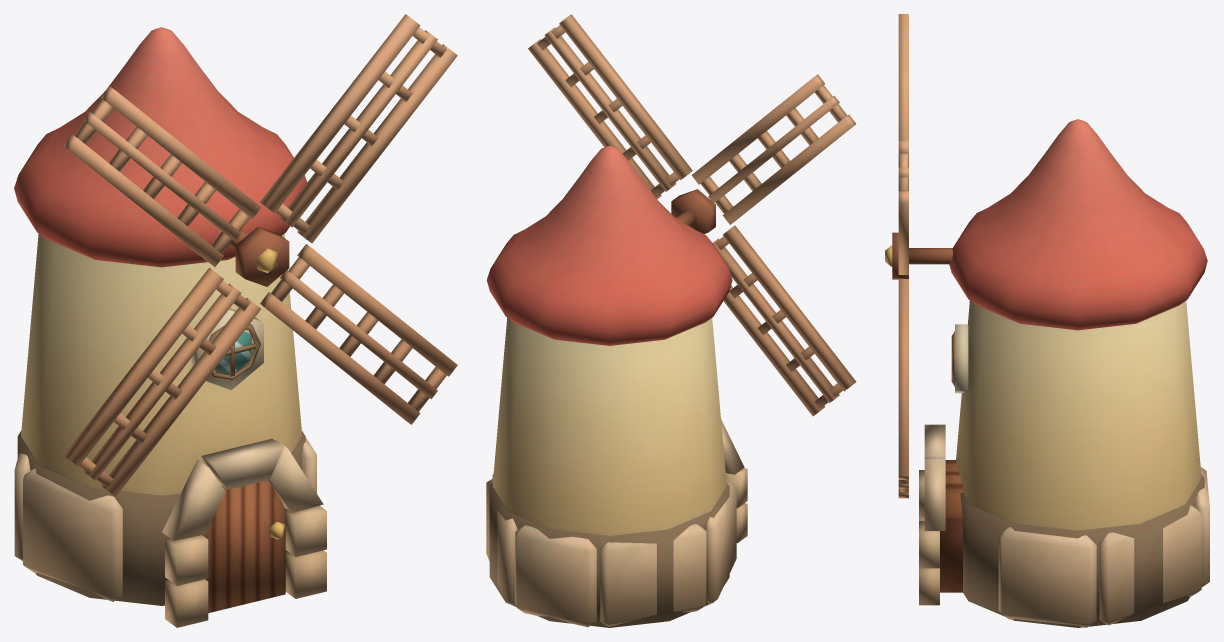
File: mill_3_low.glb
3 views of the same model, side by side, from view 1: azimuth 30°, elevation 25°; view 2: azimuth 150°, elevation 25°; view 3: azimuth 270°, elevation 25° (orthographic). The views are drawn at different scales.
Parts seen in each view (by area): view 1: mill_3, sails; view 2: mill_3, sails; view 3: mill_3, sails.
Boxes of the visible parts, box(x1,y1,x2,y2) form: mill_3: box(14, 27, 326, 627); sails: box(63, 14, 457, 496); mill_3: box(486, 145, 747, 627); sails: box(528, 14, 856, 416); mill_3: box(909, 119, 1209, 627); sails: box(885, 14, 908, 498).
Bounding box in the file's own units: 1.51 × 2.09 × 1.24.
Materials: 1 (1 with a texture image).
